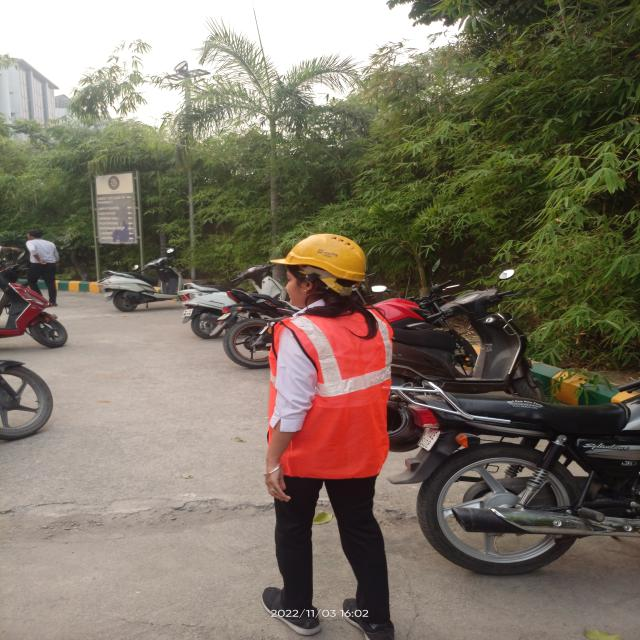safe: (251, 231, 410, 635)
unsafe: (20, 225, 60, 306)
